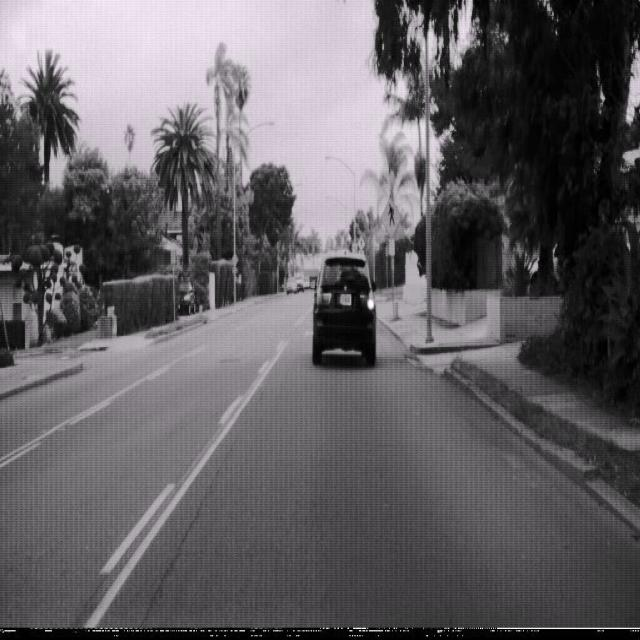pedestrianCrossing: (380, 194, 402, 238)
